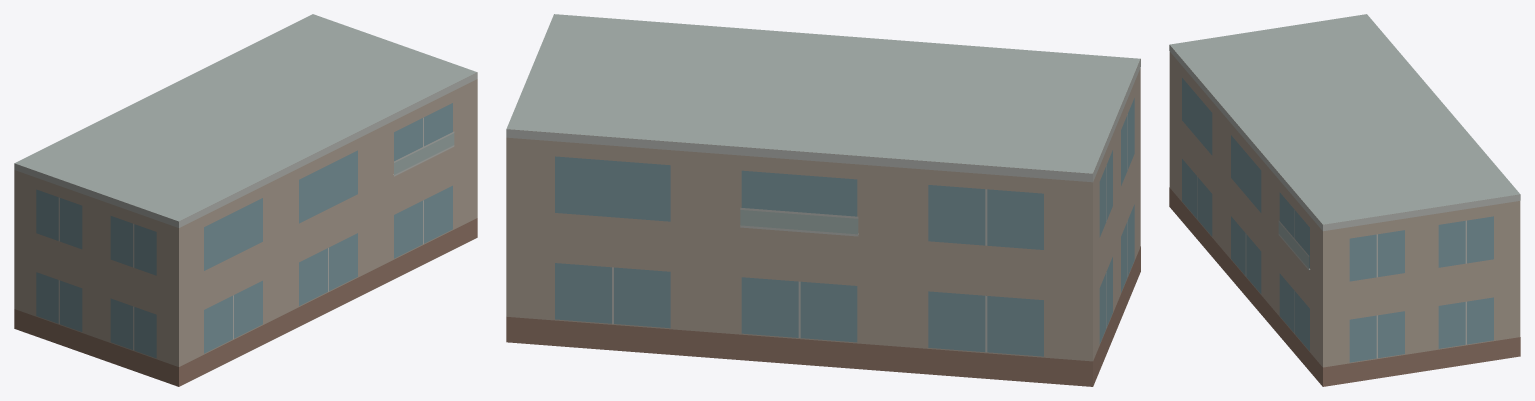
File: survey-upis-32685161.glb
3 views of the same model, side by side, from view 1: azimuth 30°, elevation 25°; view 2: azimuth 150°, elevation 25°; view 3: azimuth 270°, elevation 25° (orthographic). The views are drawn at different scales.
Parts seen in each view (by area): view 1: survey-upis-32685161.tmp; view 2: survey-upis-32685161.tmp; view 3: survey-upis-32685161.tmp.
Part boxes in pixels (x1,y1,x2,y2): survey-upis-32685161.tmp: (14,14,477,386); survey-upis-32685161.tmp: (506,14,1140,386); survey-upis-32685161.tmp: (1169,14,1520,386).
Size of the model in its own units: 17.02 by 6.1 by 11.98.
